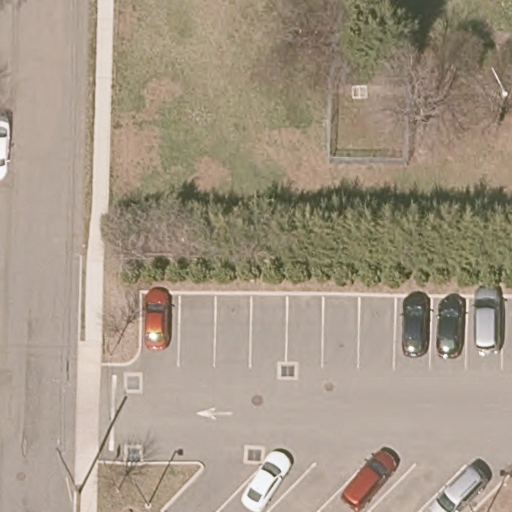DT: (56, 445, 81, 497)
